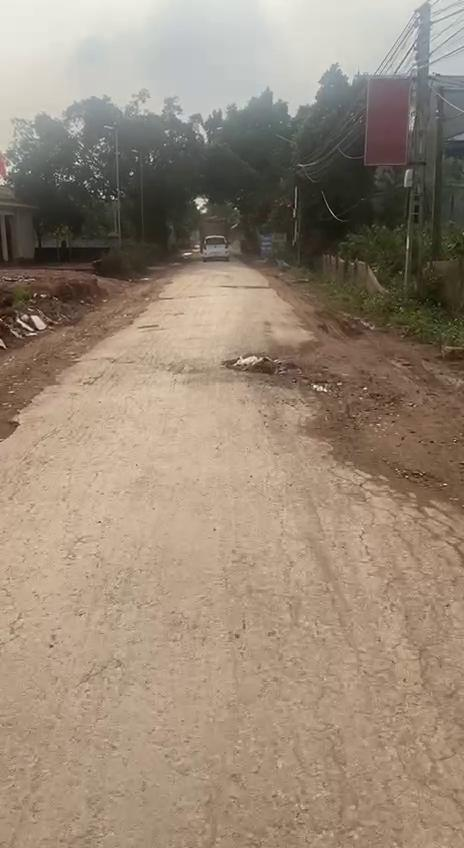pothole: (224, 351, 300, 378)
